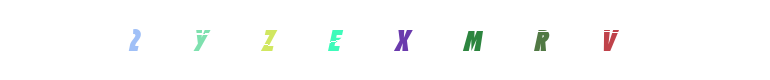2: (191, 0, 271, 80)
E: (294, 0, 374, 80)
M: (363, 0, 443, 80)
R: (463, 0, 543, 80)
V: (569, 0, 649, 80)
X: (344, 0, 424, 80)
Y: (237, 0, 317, 80)
Z: (259, 0, 339, 80)
